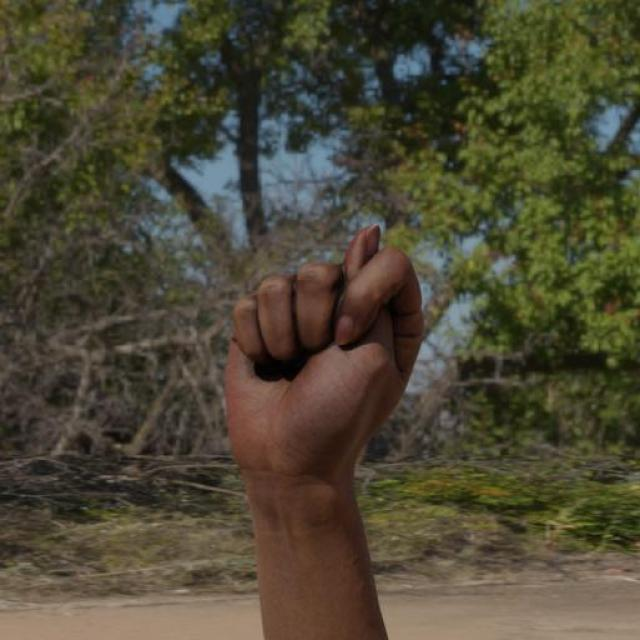T: (212, 222, 430, 510)
